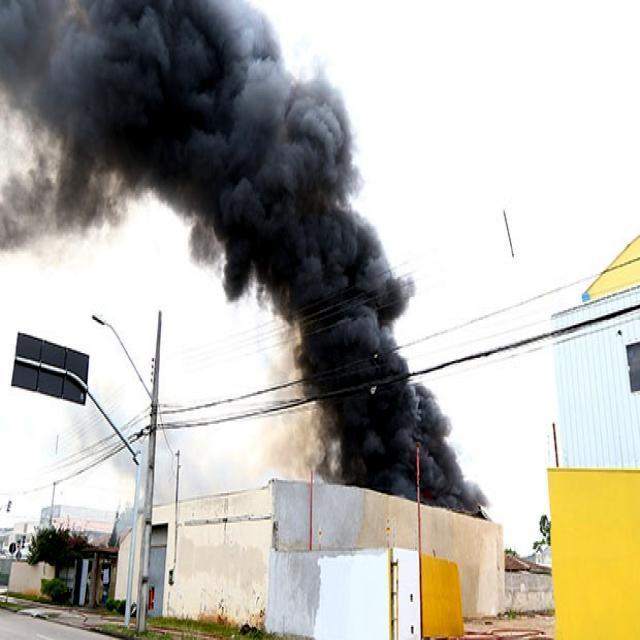Smoke: (196, 14, 449, 488), (0, 0, 348, 250)
